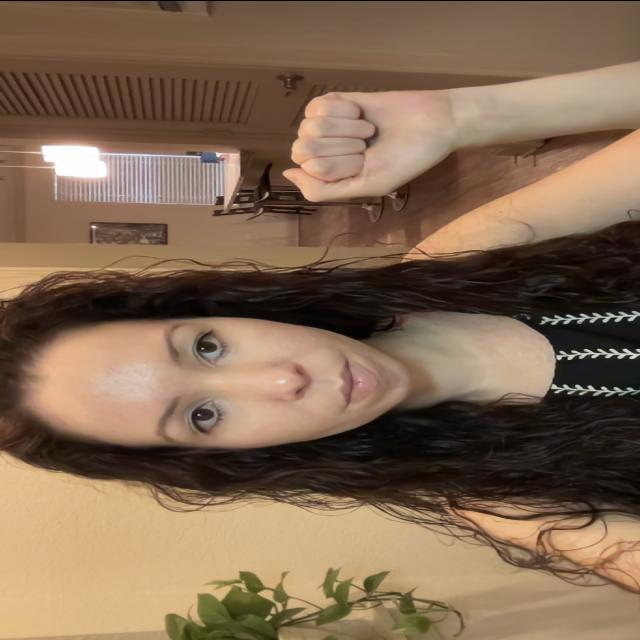Rock: (276, 72, 474, 210)
